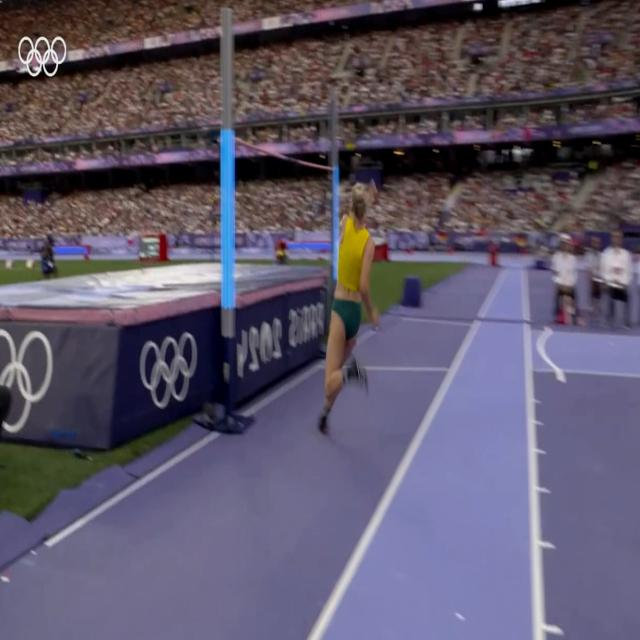run: (312, 181, 378, 435)
